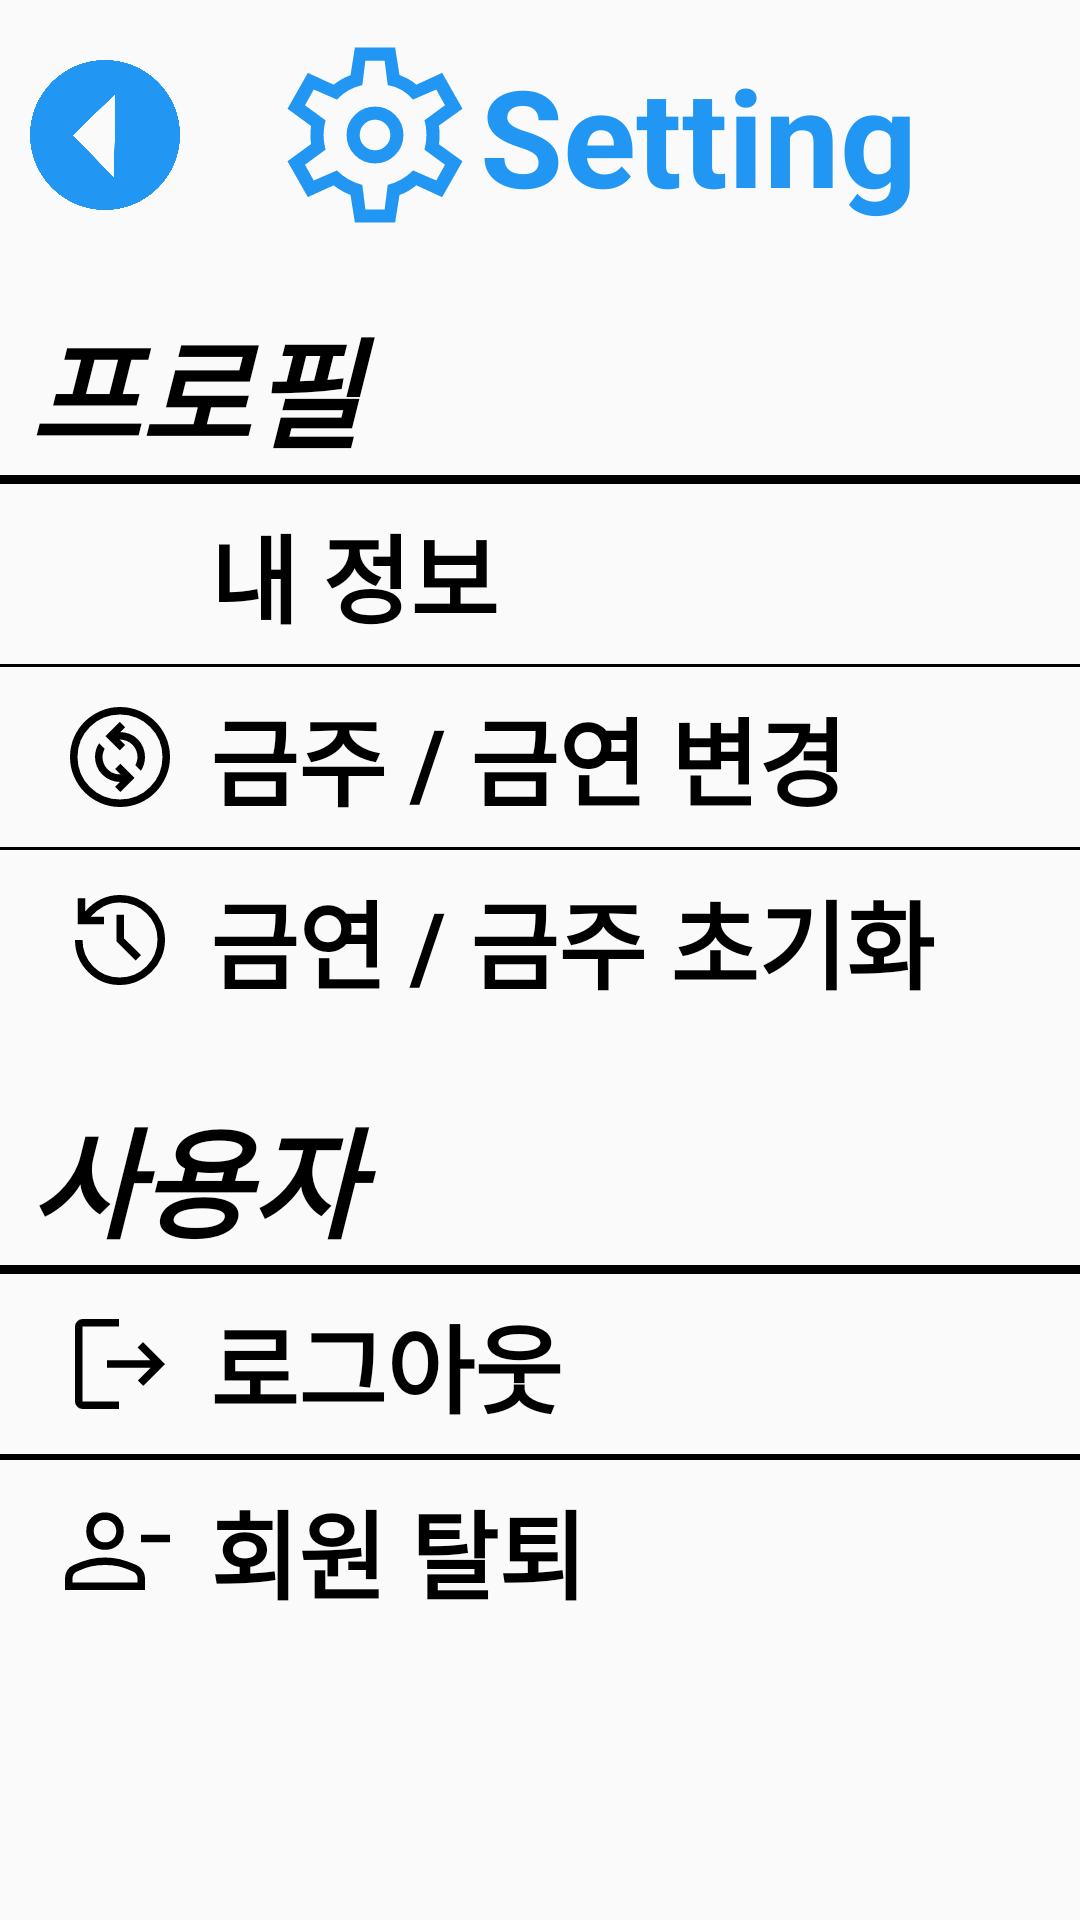

Icons on this 1080 x 1920 Android screen, each with its box as [x1,y1,x2,y2]:
back: [30,60,180,210]
change circle: [70,707,170,807]
initialization: [75,895,165,985]
person remove: [65,1512,170,1590]
